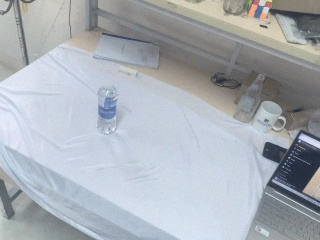bottle: (233, 74, 266, 124), (97, 80, 118, 135)
cup: (252, 101, 286, 134)
phone: (261, 141, 290, 163)
